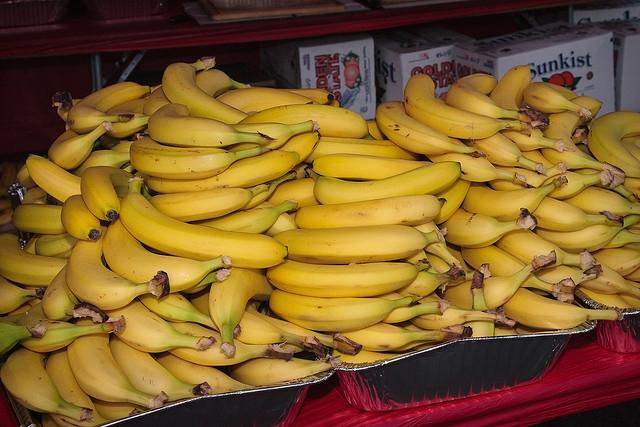banana: (119, 176, 289, 270), (182, 286, 328, 357), (102, 216, 232, 292), (68, 316, 168, 409), (65, 225, 170, 310), (404, 74, 532, 140), (490, 64, 576, 152), (435, 250, 556, 309), (304, 161, 462, 205), (110, 334, 212, 402), (272, 224, 440, 265), (461, 245, 576, 304), (269, 288, 422, 332), (147, 150, 300, 194), (0, 348, 93, 420), (265, 258, 431, 298), (101, 296, 216, 353), (245, 300, 362, 355), (376, 101, 486, 158), (130, 136, 272, 180), (208, 266, 276, 356), (162, 56, 250, 124), (166, 320, 295, 366), (15, 300, 126, 352), (45, 345, 113, 427), (498, 286, 624, 330), (294, 194, 448, 230), (148, 104, 273, 148), (142, 69, 252, 116), (236, 104, 378, 140), (461, 175, 568, 222), (539, 96, 606, 171), (520, 149, 614, 200), (138, 293, 241, 338), (67, 81, 152, 135), (140, 182, 254, 222), (154, 350, 256, 394), (529, 214, 640, 254), (408, 290, 518, 330), (492, 228, 596, 270), (437, 207, 538, 249), (184, 198, 300, 234), (446, 74, 532, 122), (42, 263, 110, 323), (80, 166, 152, 222), (457, 132, 548, 176), (0, 231, 69, 288), (302, 136, 433, 165), (424, 153, 528, 188), (586, 111, 640, 178), (48, 120, 118, 171), (230, 355, 342, 386), (218, 120, 321, 152), (532, 196, 624, 231), (340, 322, 446, 352), (312, 154, 433, 180), (523, 82, 594, 124), (394, 263, 466, 301), (367, 291, 452, 323), (26, 154, 80, 203), (566, 168, 640, 202), (557, 186, 640, 216), (526, 265, 604, 296), (578, 260, 640, 298), (411, 220, 461, 266), (398, 249, 449, 294), (463, 270, 495, 338), (246, 201, 300, 238), (60, 194, 101, 240), (432, 178, 471, 224), (264, 178, 323, 208), (10, 204, 67, 235), (1, 276, 47, 314), (274, 130, 322, 166), (66, 150, 130, 177), (88, 394, 152, 420), (0, 319, 47, 354), (576, 284, 634, 308), (34, 233, 80, 259), (105, 115, 152, 138), (276, 88, 335, 105), (600, 228, 640, 249), (106, 97, 146, 113), (366, 120, 389, 140), (22, 187, 48, 204), (621, 136, 640, 159), (286, 210, 297, 220), (520, 99, 527, 108)
